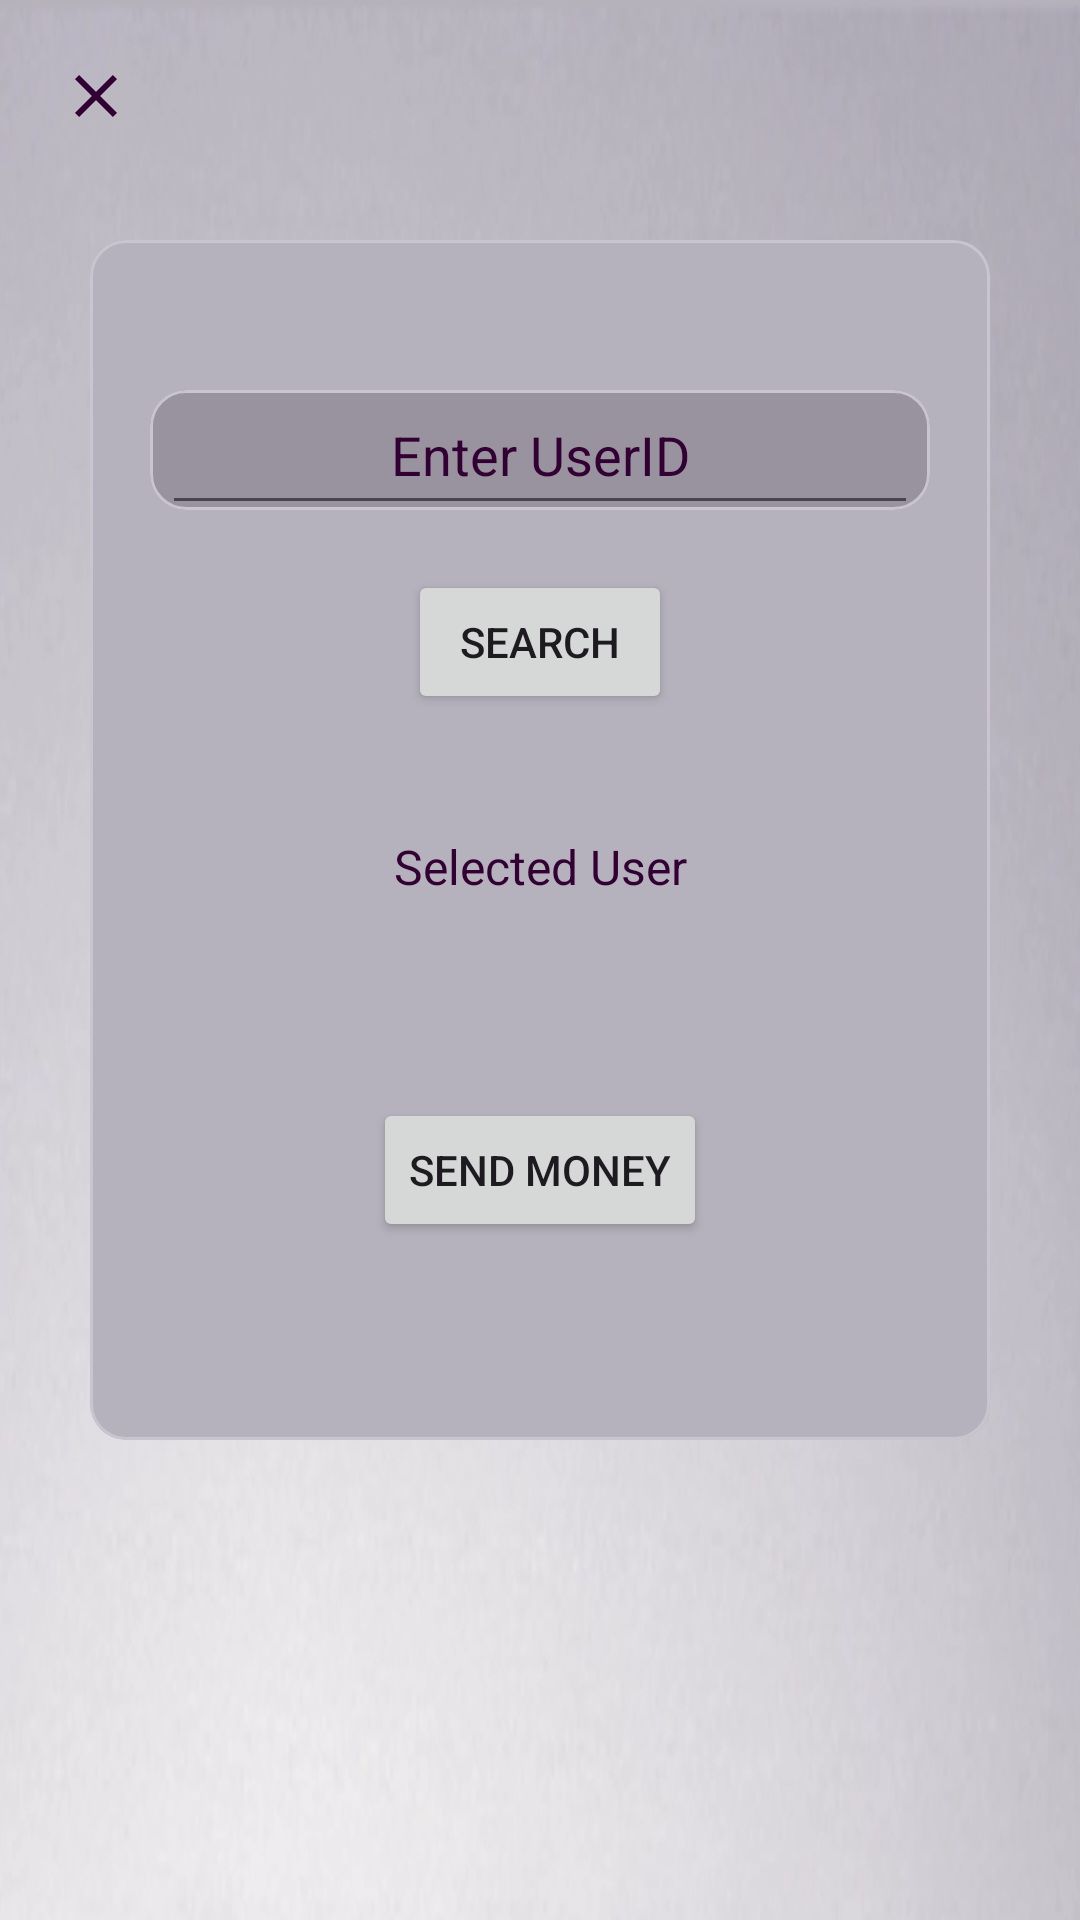

Screen size 1080*1920. Icon name, then its box in pixels as detection(x1, y1, x2, y2):
Closing arrow back to main menu: detection(75, 75, 117, 117)
